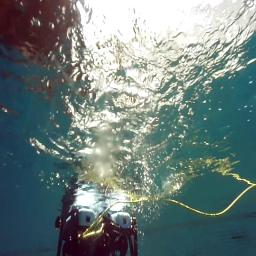back: (54, 207, 138, 256)
